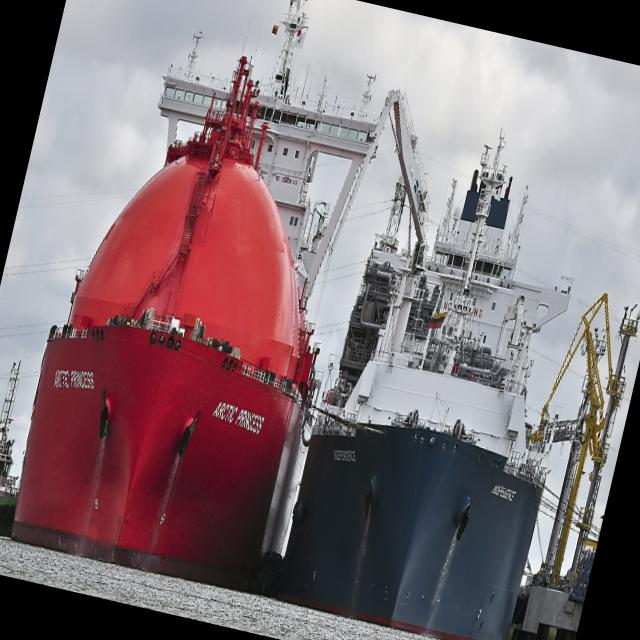boat: (0, 0, 400, 620), (260, 41, 640, 640)
